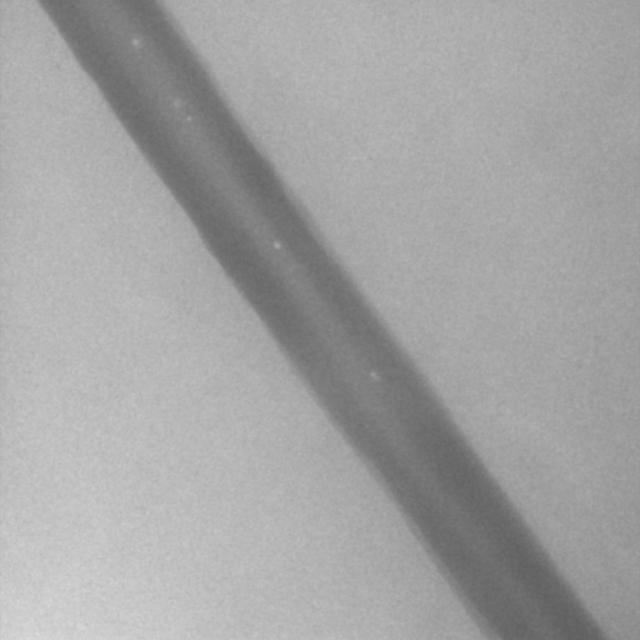air hole: (368, 368, 380, 381), (271, 237, 282, 251), (128, 35, 139, 47)
